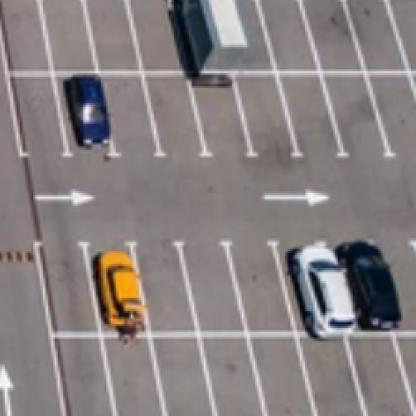Car: (295, 252, 346, 334), (65, 70, 109, 147), (356, 247, 394, 327), (94, 256, 138, 324)
Empty: (178, 3, 240, 71), (158, 341, 204, 414), (380, 75, 414, 161), (46, 257, 87, 328), (314, 3, 362, 62), (337, 82, 372, 162), (242, 251, 279, 320), (315, 348, 348, 413), (360, 352, 398, 407), (261, 347, 297, 404), (200, 89, 236, 144), (197, 265, 231, 323), (151, 265, 188, 318), (355, 15, 398, 60), (295, 74, 321, 148), (224, 351, 255, 413), (116, 350, 149, 407), (16, 92, 52, 144), (9, 7, 40, 66), (276, 12, 311, 64), (51, 3, 82, 58), (254, 89, 281, 152), (101, 13, 136, 60), (130, 19, 176, 53), (73, 343, 97, 408), (160, 92, 186, 150), (122, 84, 147, 139)
